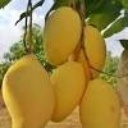mango: (3, 55, 55, 128)
